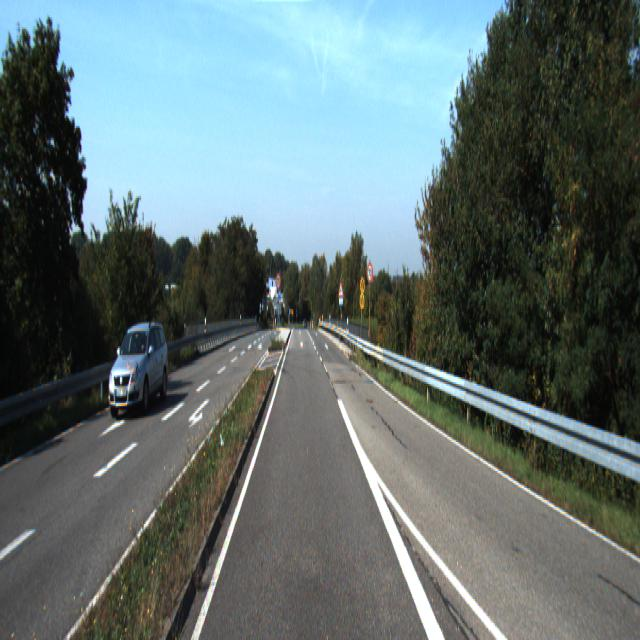Car: (102, 318, 170, 418)
